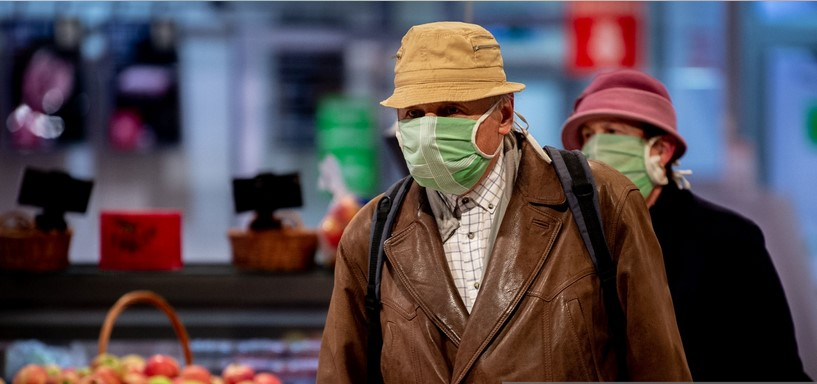face_with_mask: (383, 20, 523, 195), (561, 67, 686, 203)
